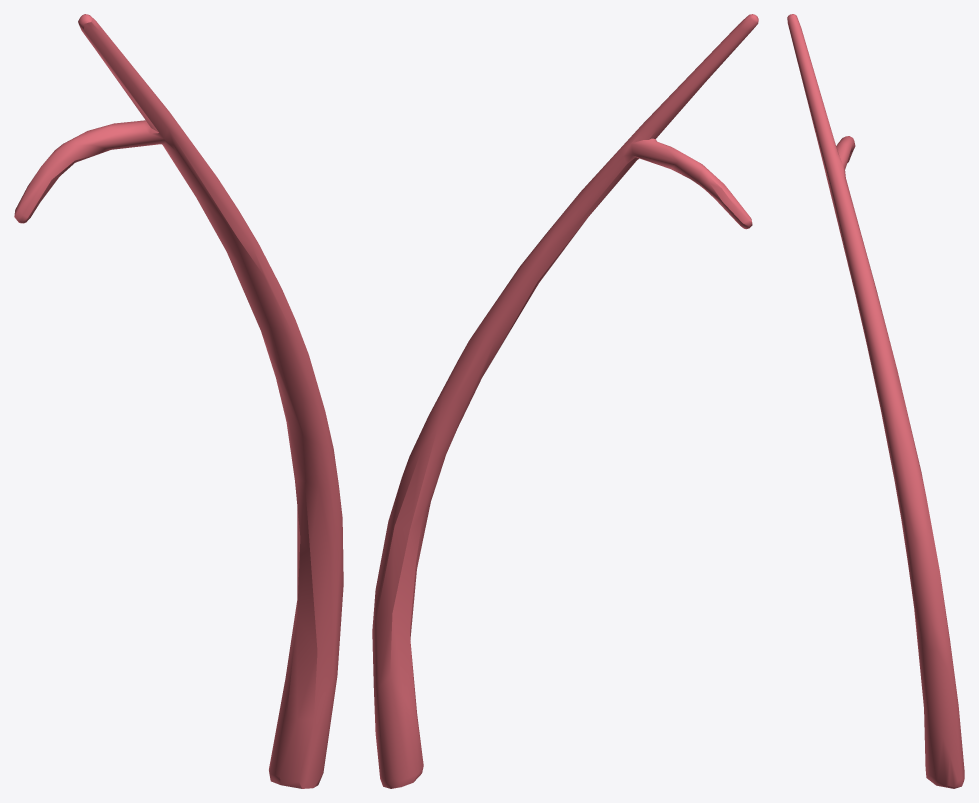
The model's file is fma10680_fj2210.glb.
3 views of the same model, side by side, from view 1: azimuth 30°, elevation 25°; view 2: azimuth 150°, elevation 25°; view 3: azimuth 270°, elevation 25° (orthographic). The views are drawn at different scales.
Visible parts, largest first — view 1: FMA10680_FJ2210; view 2: FMA10680_FJ2210; view 3: FMA10680_FJ2210.
Boxes of the visible parts, left/top/right/bottom form: FMA10680_FJ2210: left=14, top=14, right=343, bottom=788; FMA10680_FJ2210: left=372, top=14, right=758, bottom=788; FMA10680_FJ2210: left=787, top=14, right=964, bottom=788.
Bounding box in the file's own units: 0.0147 × 0.0334 × 0.00814.
